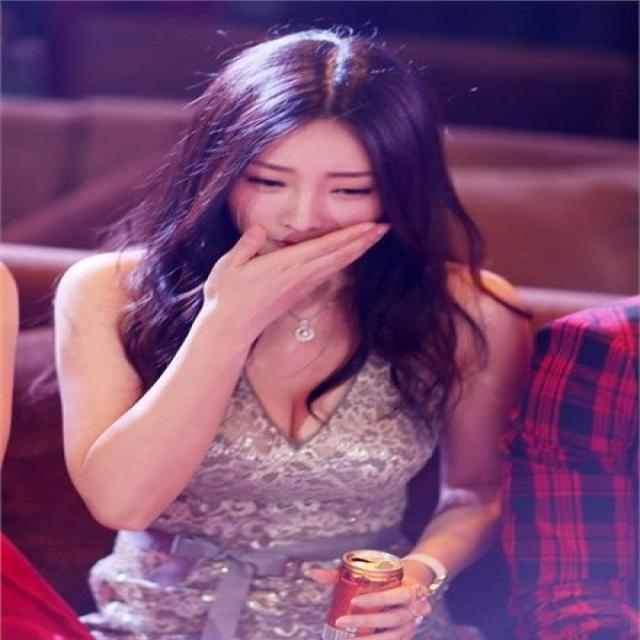nomask: (232, 111, 379, 285)
